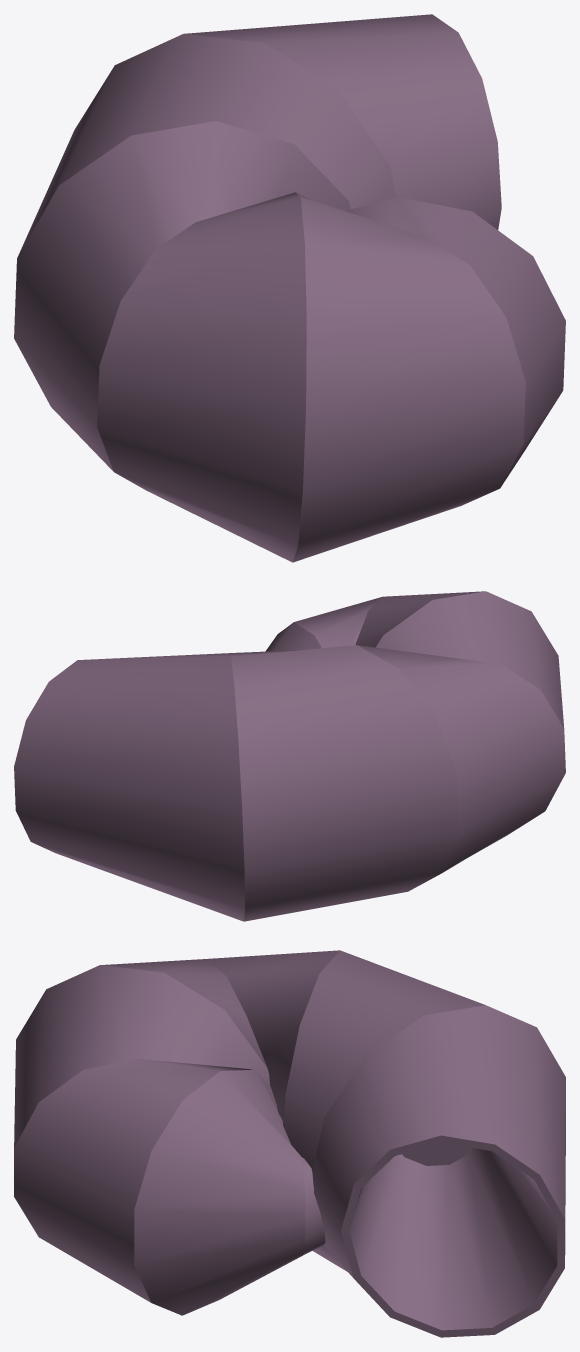
The model's file is shell.fbx.
3 renders of one model, top to bottom at view 1: azimuth 30°, elevation 25°; view 2: azimuth 150°, elevation 25°; view 3: azimuth 270°, elevation 25°, orthographic. The views are drawn at different scales.
Visible parts, largest first — view 1: pTorus1; view 2: pTorus1; view 3: pTorus1.
Part boxes in pixels (box(x1,y1,x2,y2)): pTorus1: box(14, 14, 565, 562); pTorus1: box(14, 591, 565, 921); pTorus1: box(14, 950, 565, 1337).
Bounding box in the file's own units: 60.93 × 38.08 × 66.72.
